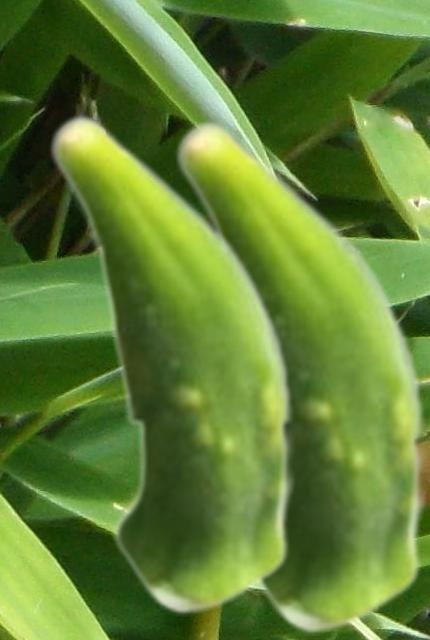okra: (173, 118, 428, 634), (47, 112, 296, 615)
